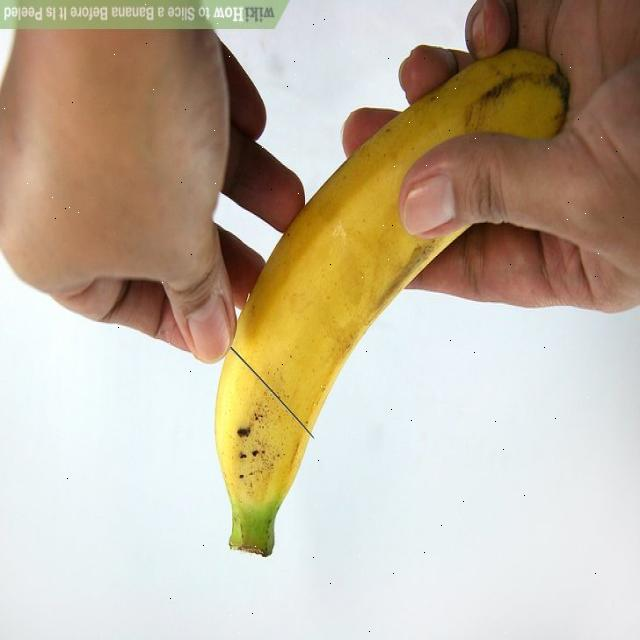Pisang: (214, 49, 572, 559)
